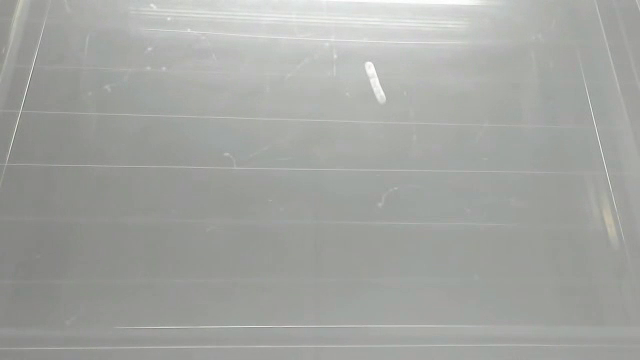alpha: (361, 58, 393, 108)
